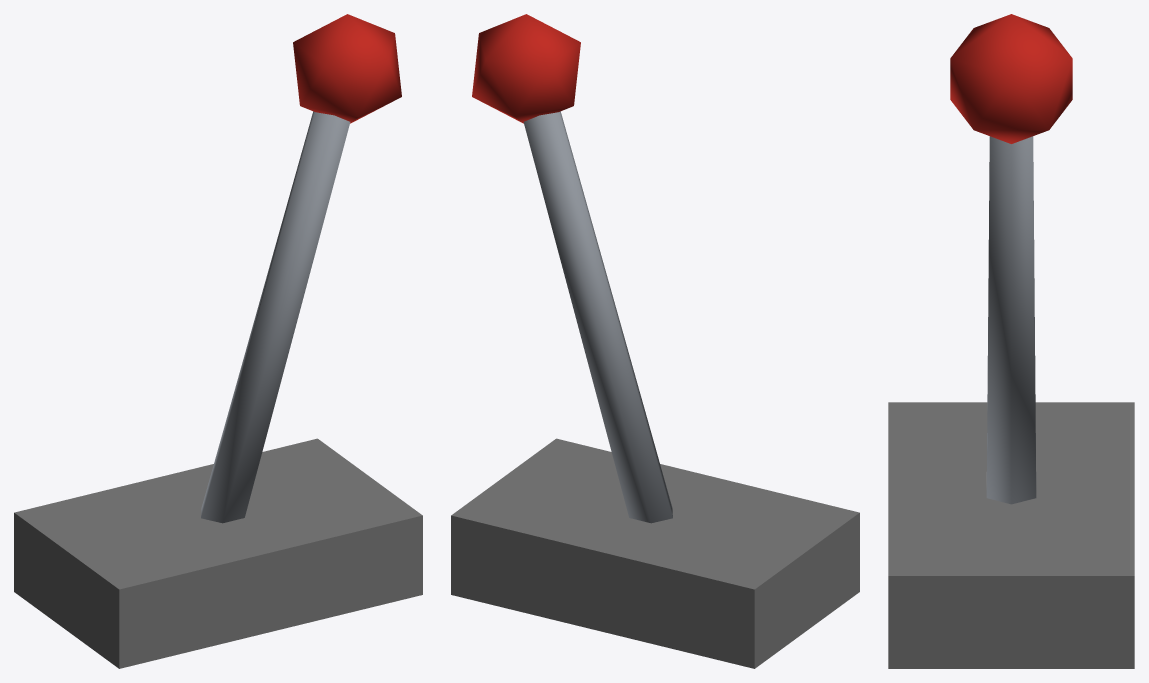
File: lever_v0.glb
3 renders of one model, left to right at view 1: azimuth 30°, elevation 25°; view 2: azimuth 150°, elevation 25°; view 3: azimuth 270°, elevation 25°, orthographic. The views are drawn at different scales.
Parts seen in each view (by area): view 1: lever_v0; view 2: lever_v0; view 3: lever_v0.
Boxes of the visible parts, x1,y1,x2,y2 form: lever_v0: [14, 14, 422, 668]; lever_v0: [451, 14, 859, 668]; lever_v0: [888, 14, 1134, 668].
Bounding box in the file's own units: 0.2163 × 0.345 × 0.12.
